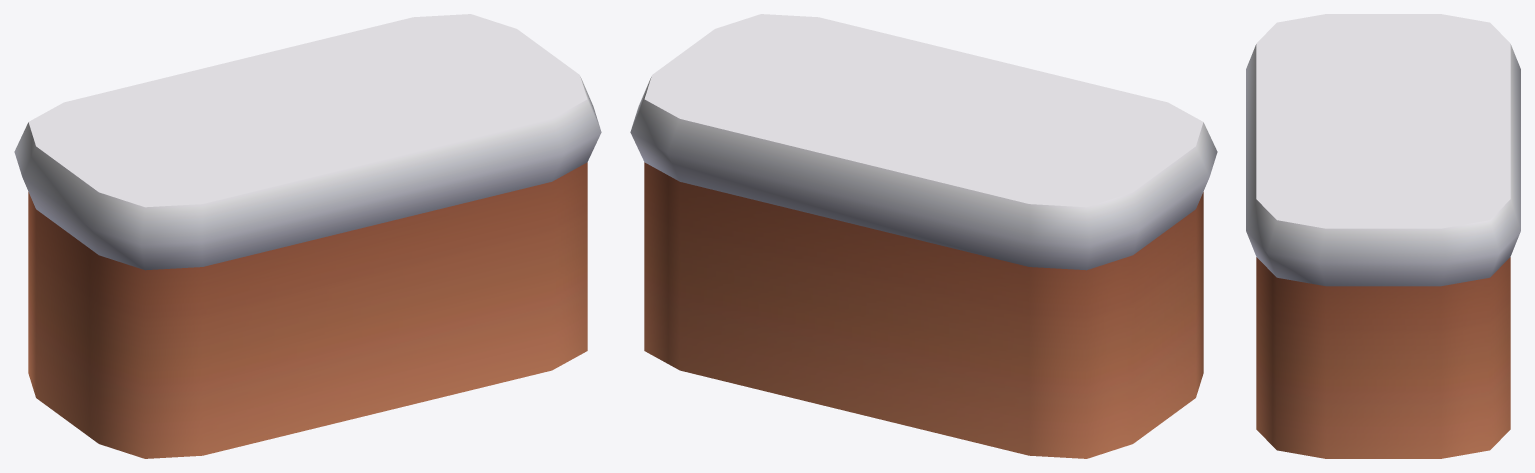
File: kenney-platformer-block-snow-long.glb
3 renders of one model, left to right at view 1: azimuth 30°, elevation 25°; view 2: azimuth 150°, elevation 25°; view 3: azimuth 270°, elevation 25°, orthographic. The views are drawn at different scales.
Parts seen in each view (by area): view 1: block-snow-long; view 2: block-snow-long; view 3: block-snow-long.
Boxes of the visible parts, x1=… form: block-snow-long: x1=14, y1=14, x2=601, y2=458; block-snow-long: x1=630, y1=14, x2=1217, y2=458; block-snow-long: x1=1246, y1=14, x2=1520, y2=458.
Size of the model in its own units: 2.08 by 1 by 1.08.
1 material, 1 textured.
